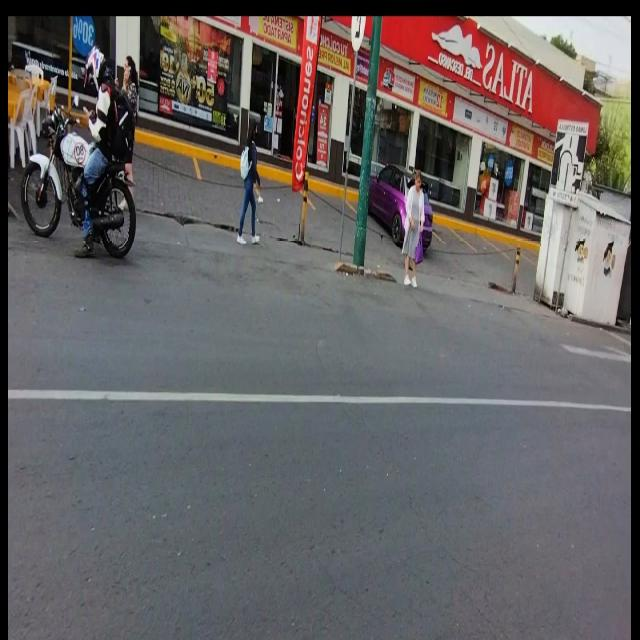adult: (75, 52, 117, 256), (237, 116, 262, 247), (403, 169, 425, 288), (120, 56, 138, 178)
